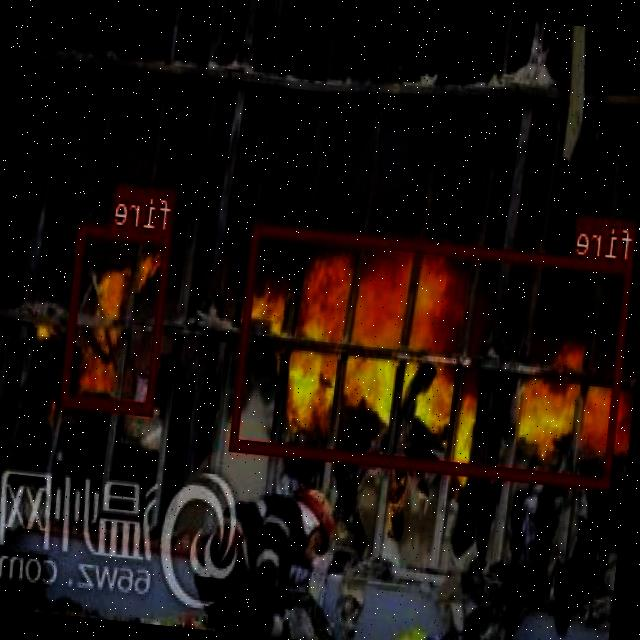fire: (231, 222, 634, 488), (62, 223, 172, 413)
